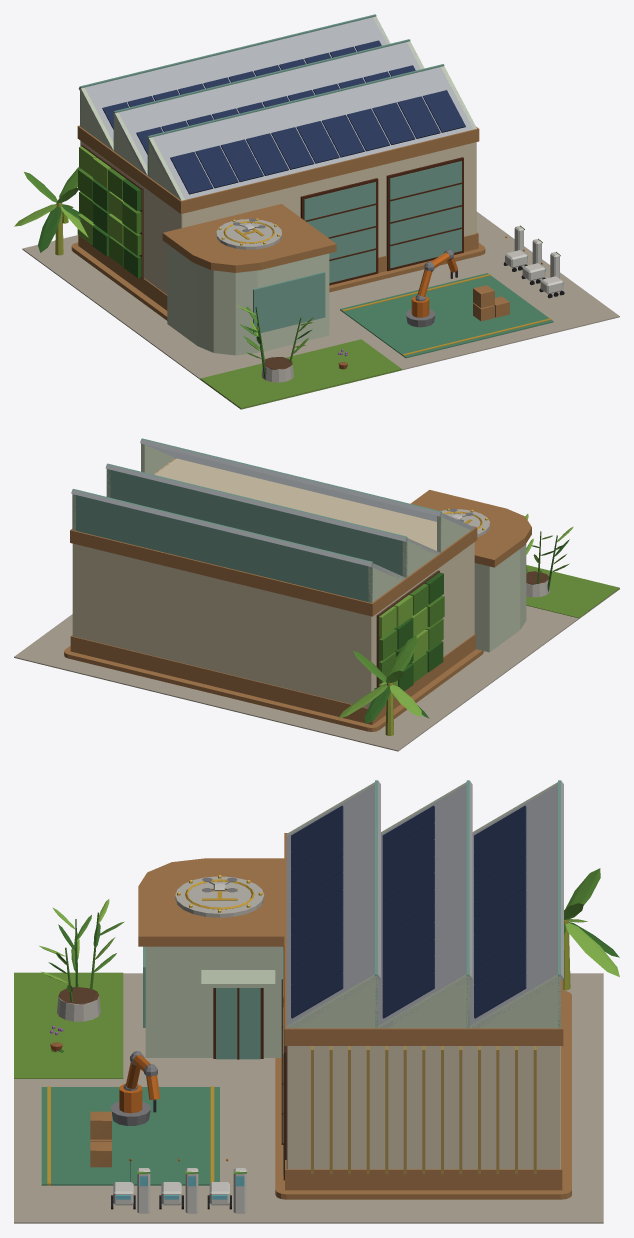
Rendered from factory_1.glb.
3 views of the same model, one above another, from view 1: azimuth 30°, elevation 25°; view 2: azimuth 150°, elevation 25°; view 3: azimuth 270°, elevation 25° (orthographic). The views are drawn at different scales.
Visible parts, largest first — view 1: body; view 2: body; view 3: body, windows.
Part boxes in pixels (x1,y1,x2,y2): body: (14, 14, 619, 409); body: (14, 438, 619, 751); body: (14, 780, 619, 1223); windows: (116, 875, 262, 1199).
Size of the model in its own units: 16.56 by 6.78 by 16.34.
